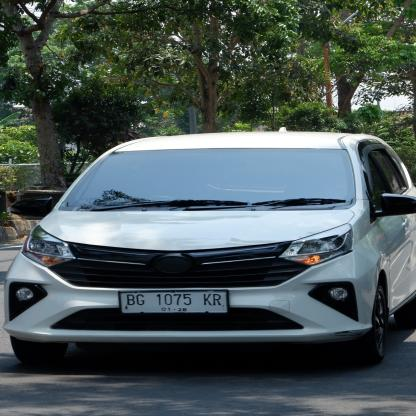Plat-Nomor: (116, 286, 232, 320)
